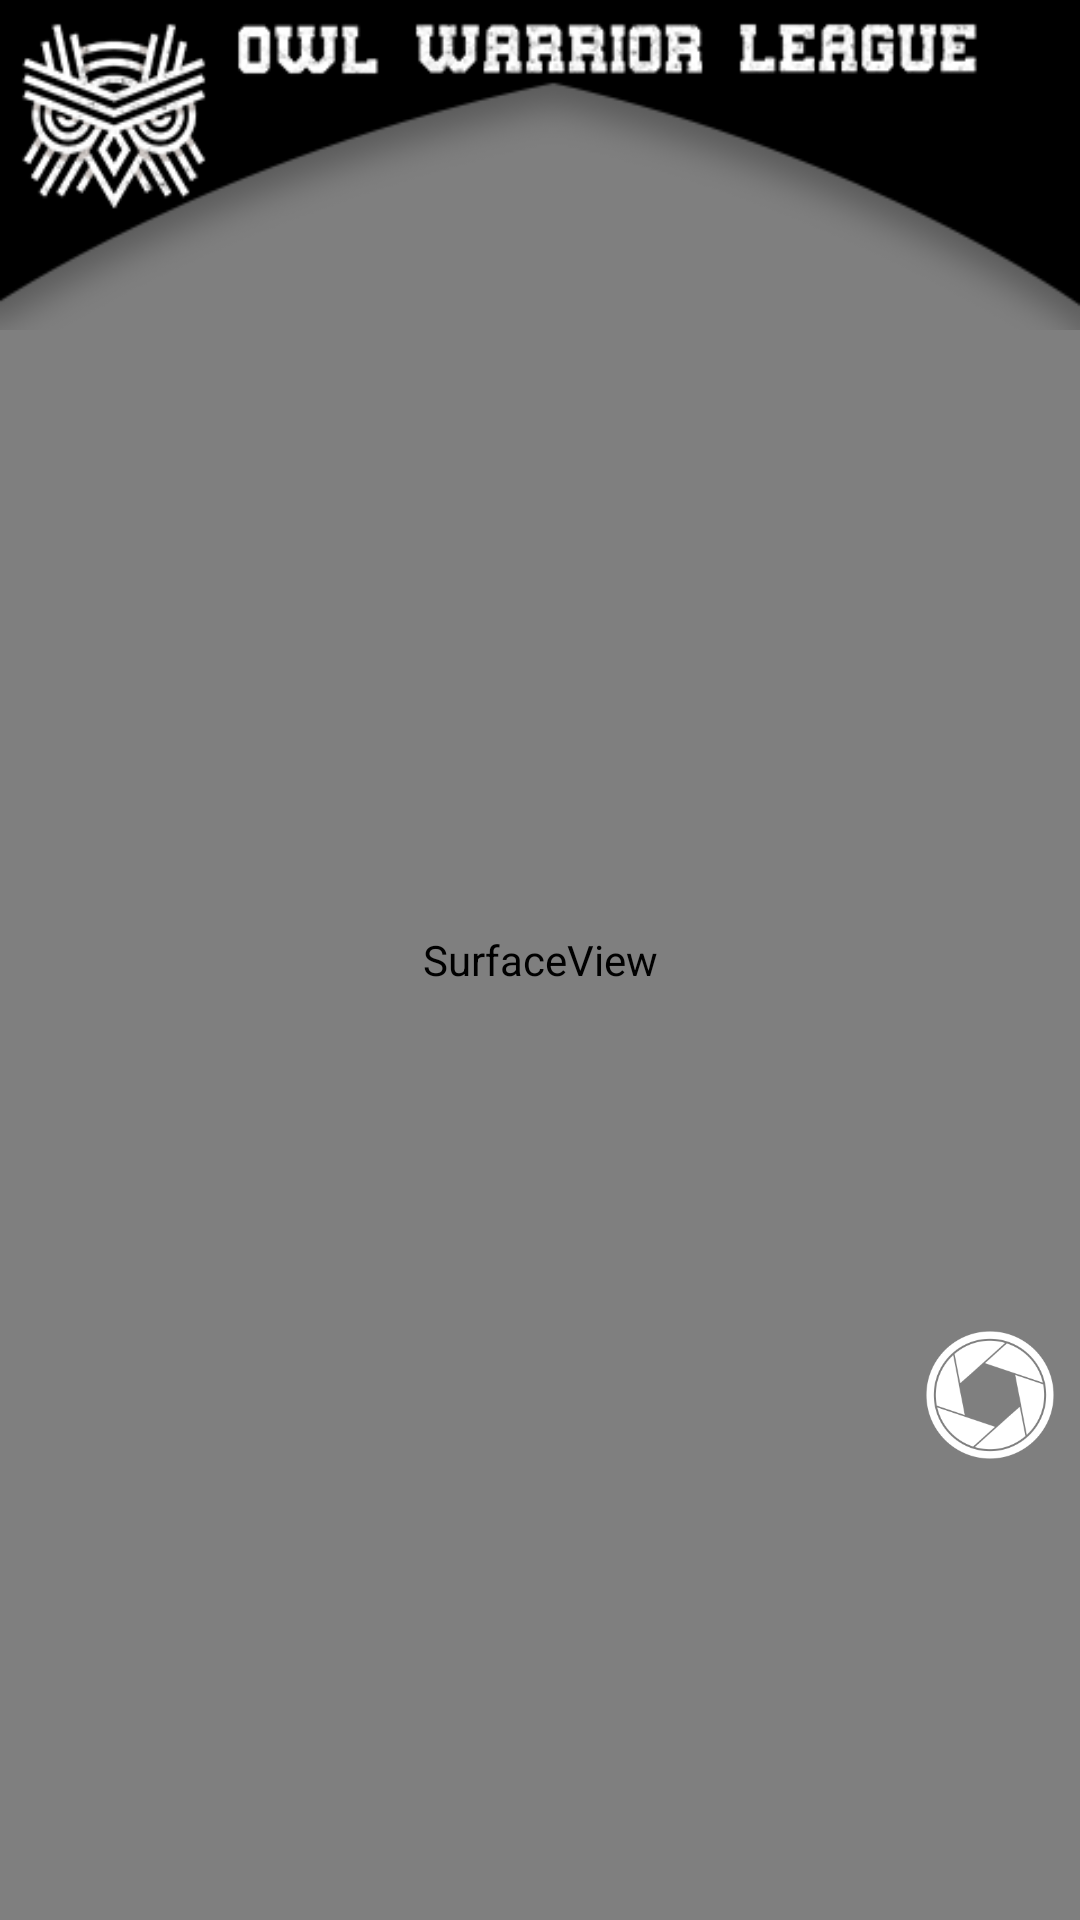

Icons on this 1080px x 1920px Android screen, each with its box as (x1=x1, y1=y1, x2=x2, y2=y2):
camera click: (x1=926, y1=1331, x2=1054, y2=1459)
